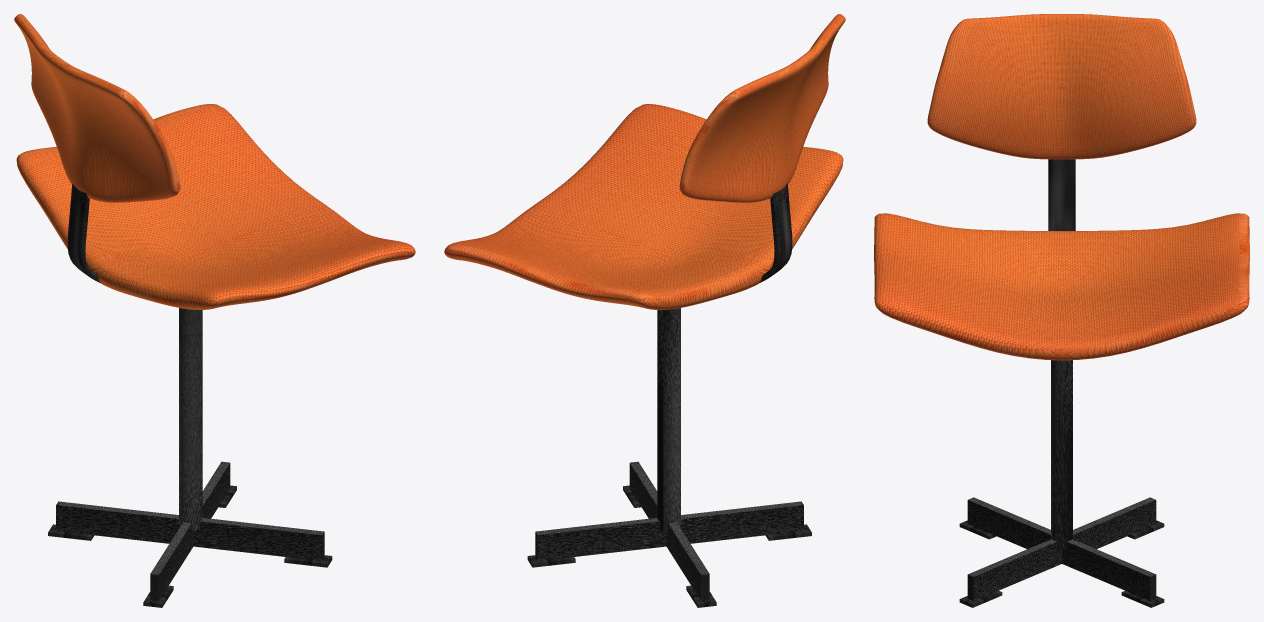
Rendered from Spider.glb.
The picture shows the model from 3 angles, left to right: view 1: azimuth 30°, elevation 25°; view 2: azimuth 150°, elevation 25°; view 3: azimuth 270°, elevation 25°; orthographic projection. The views are drawn at different scales.
Parts seen in each view (by area): view 1: Plane, Plane.002, Cube.001, Cylinder, Cube, Plane.001; view 2: Plane, Plane.002, Cube, Cylinder, Cube.001, Plane.001; view 3: Plane, Plane.002, Cube, Cube.001, Cylinder, Plane.001.
Part boxes in pixels (left/top/right/bottom): Plane: left=16, top=104, right=415, bottom=310; Plane.002: left=14, top=14, right=180, bottom=202; Cube.001: left=48, top=501, right=332, bottom=567; Cylinder: left=179, top=308, right=202, bottom=531; Cube: left=143, top=461, right=236, bottom=607; Plane.001: left=67, top=183, right=100, bottom=283; Plane: left=444, top=104, right=843, bottom=310; Plane.002: left=679, top=14, right=845, bottom=202; Cube: left=527, top=501, right=811, bottom=567; Cylinder: left=657, top=308, right=680, bottom=531; Cube.001: left=623, top=461, right=716, bottom=607; Plane.001: left=759, top=183, right=792, bottom=283; Plane: left=874, top=213, right=1249, bottom=360; Plane.002: left=927, top=14, right=1196, bottom=159; Cube: left=959, top=497, right=1164, bottom=607; Cube.001: left=959, top=497, right=1164, bottom=607; Cylinder: left=1051, top=360, right=1072, bottom=549; Plane.001: left=1048, top=159, right=1075, bottom=230.
Bounding box in the file's own units: 1.57 × 2.78 × 1.93.
2 materials, 2 textured.
